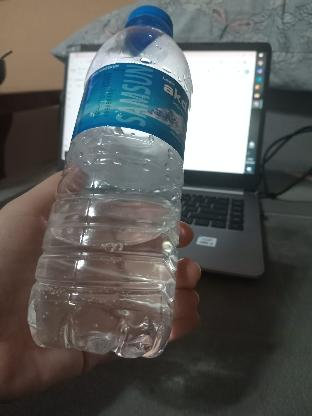Plastic Bottle: (30, 0, 192, 378)
